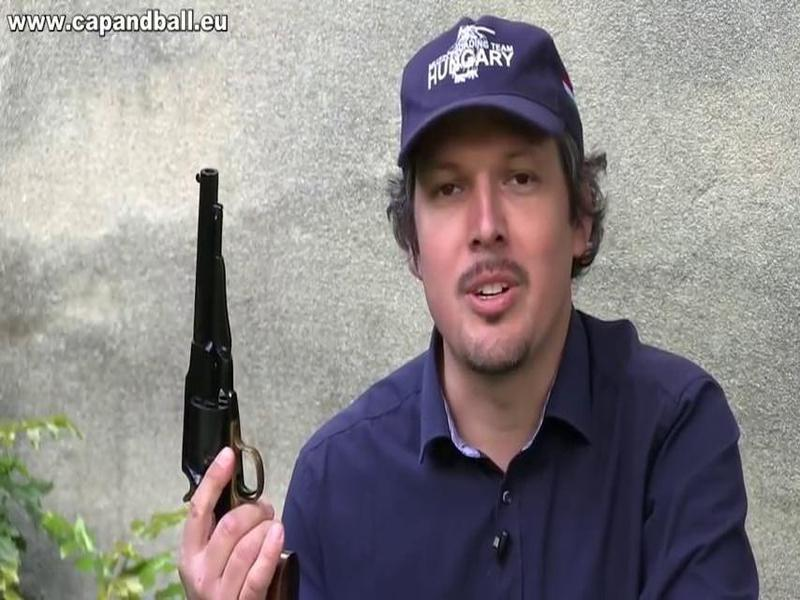Revolver: (157, 148, 324, 600)
